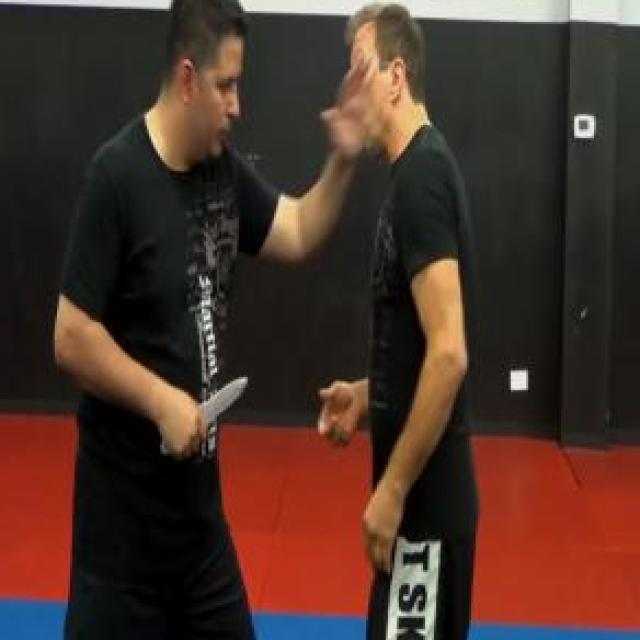knife: (158, 371, 250, 462)
